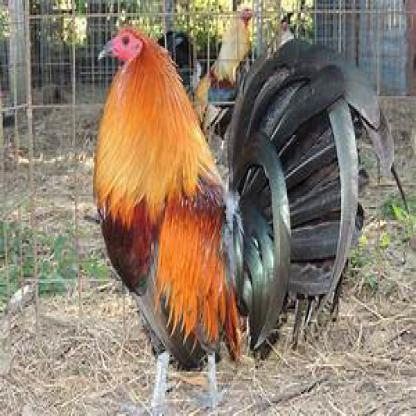chicken: (90, 24, 395, 414)
